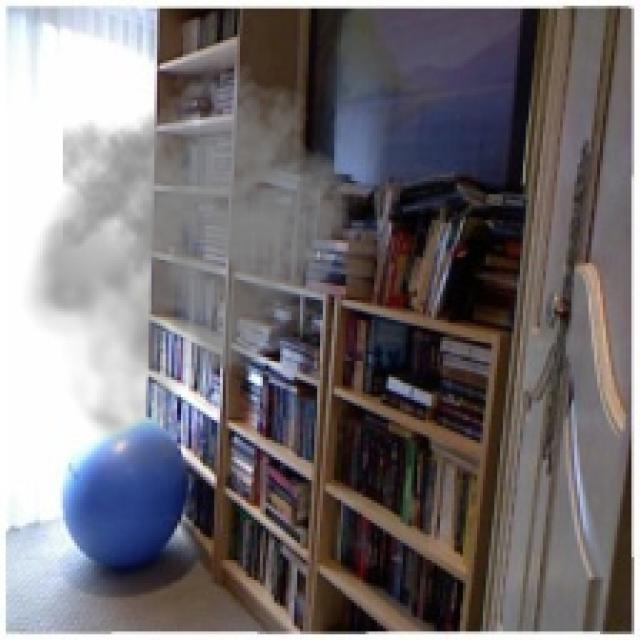Smoke: (19, 63, 374, 480)
